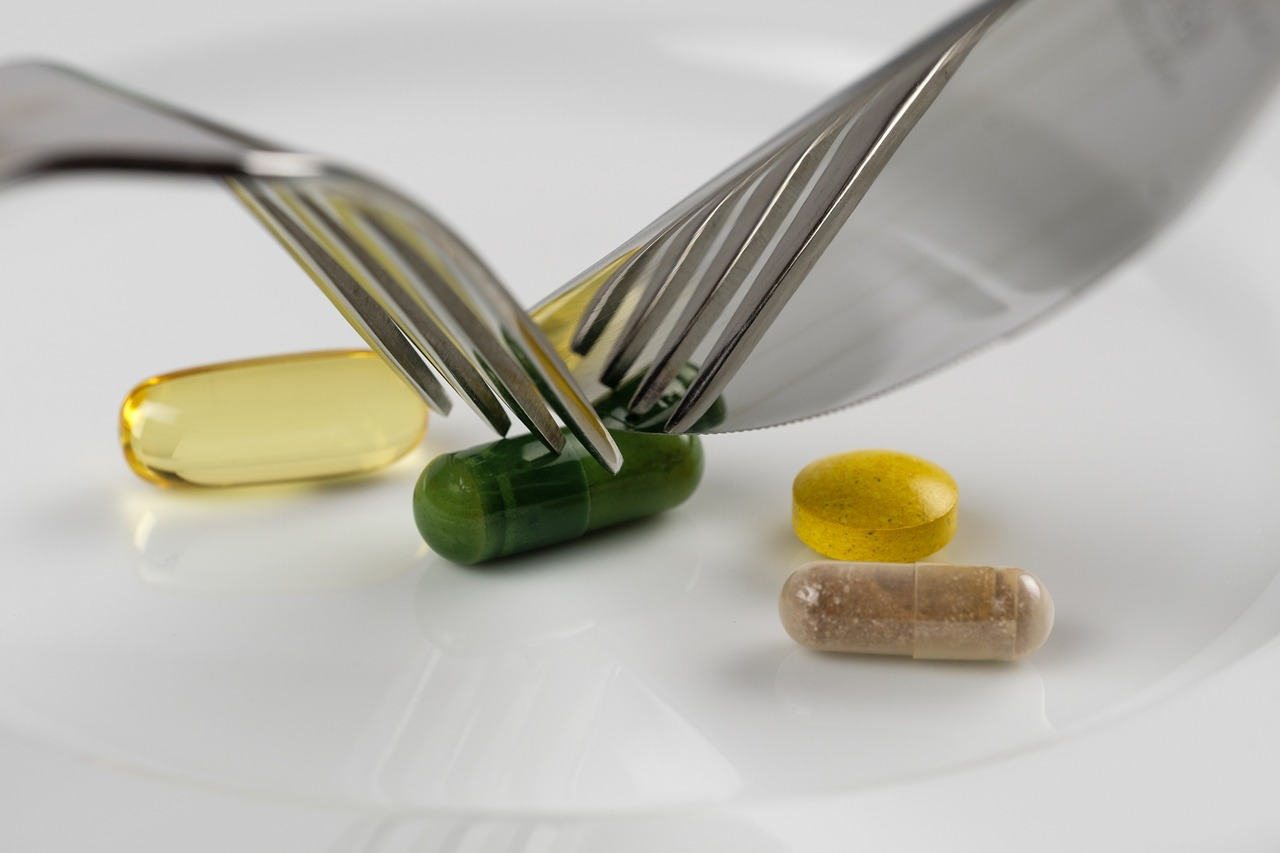knife: (434, 0, 1280, 453)
